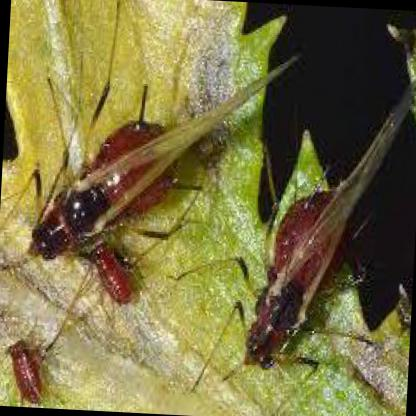uroleucon compositae: (26, 66, 286, 266), (243, 140, 387, 367)
